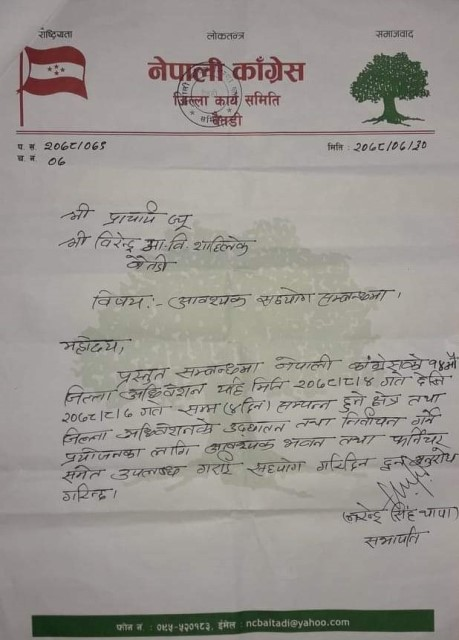text: (145, 54, 226, 85), (116, 419, 221, 440), (232, 56, 306, 85), (358, 525, 431, 551), (349, 350, 428, 373), (176, 358, 262, 379), (165, 290, 250, 311), (102, 200, 162, 229), (60, 446, 147, 466), (110, 463, 189, 483), (292, 373, 378, 391), (120, 383, 211, 400), (317, 286, 394, 306), (314, 450, 374, 475), (273, 352, 343, 373), (57, 333, 120, 356), (90, 289, 151, 312), (389, 427, 454, 448), (60, 407, 135, 425), (255, 286, 316, 308), (340, 411, 406, 431), (351, 138, 431, 154), (193, 234, 256, 254), (194, 454, 245, 478), (247, 457, 308, 477), (201, 437, 277, 453), (123, 253, 176, 275), (58, 425, 113, 446), (62, 383, 114, 405), (112, 365, 169, 385), (92, 229, 139, 253), (274, 397, 337, 413), (345, 501, 387, 525), (149, 438, 196, 459), (59, 463, 108, 483), (222, 420, 291, 434), (42, 139, 110, 152), (409, 448, 459, 465), (249, 376, 292, 395), (171, 90, 210, 109), (408, 407, 445, 427), (203, 28, 248, 44), (281, 436, 332, 450), (60, 228, 91, 251), (412, 370, 451, 388), (60, 203, 95, 223), (337, 433, 387, 447), (216, 376, 249, 397), (294, 415, 337, 431), (419, 503, 454, 522), (207, 111, 246, 128), (339, 389, 366, 413), (243, 90, 281, 107), (405, 392, 448, 406), (138, 400, 171, 418), (369, 390, 402, 408), (35, 26, 74, 41), (167, 211, 196, 231), (389, 502, 418, 522), (177, 403, 221, 416), (378, 455, 408, 474), (141, 233, 165, 253), (381, 370, 409, 387), (241, 396, 267, 414), (372, 29, 416, 39), (166, 232, 189, 251), (215, 92, 240, 107), (429, 350, 446, 372), (46, 153, 68, 169), (444, 351, 459, 373), (227, 402, 241, 415)
